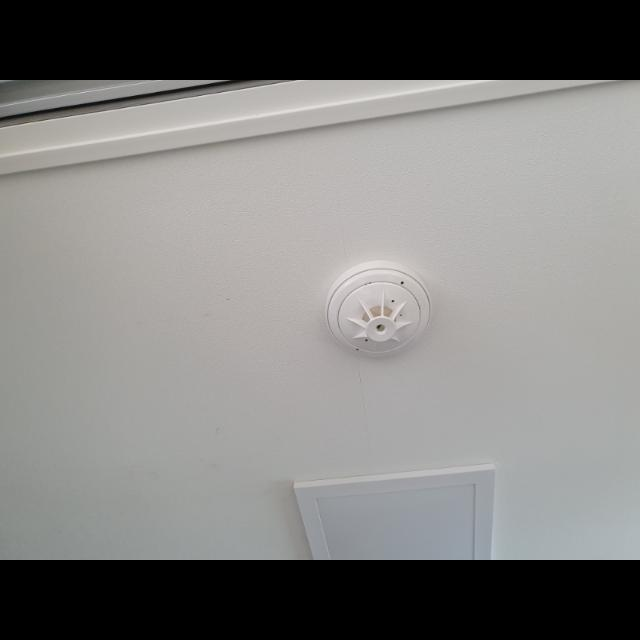Smoke-Detector: (324, 260, 434, 358)
